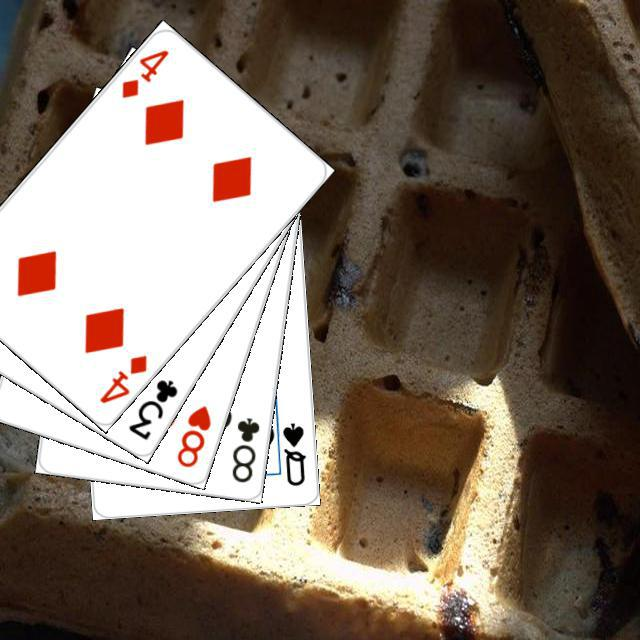3c: (123, 374, 180, 442)
4d: (116, 44, 171, 101), (94, 350, 149, 405)
8c: (226, 412, 261, 484)
8h: (172, 400, 213, 470)
Qs: (278, 418, 308, 487)
